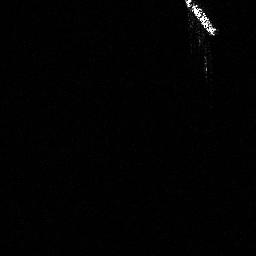ship: (180, 1, 221, 38)
